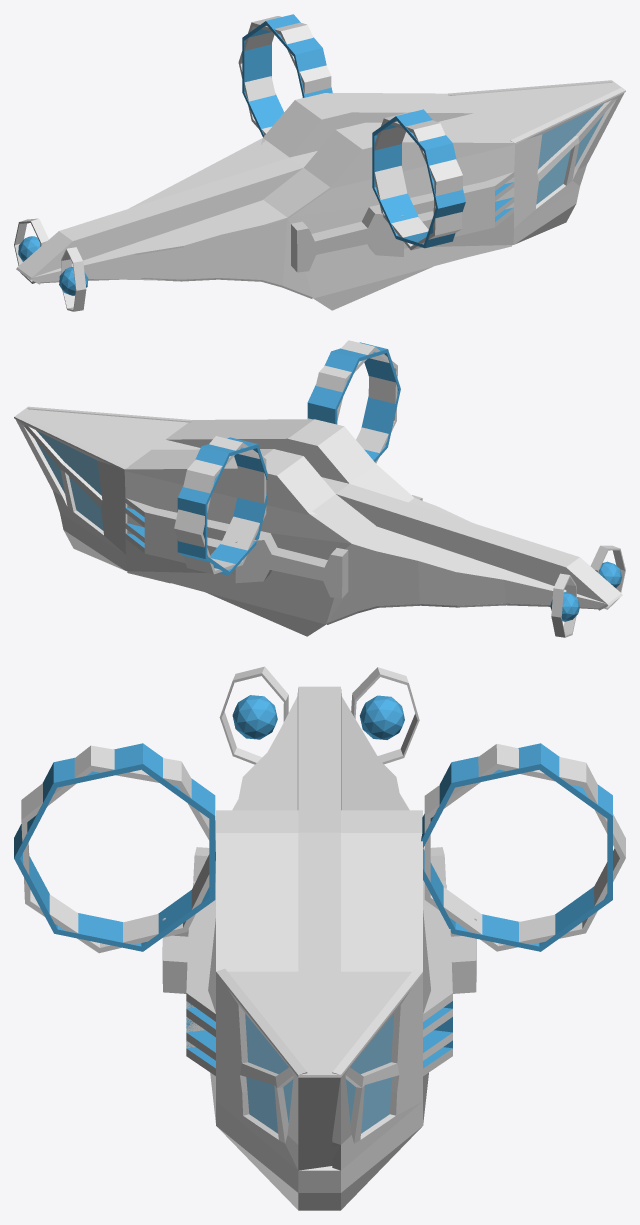
Rendered from naveConInterior.fbx.
3 views of the same model, one above another, from view 1: azimuth 30°, elevation 25°; view 2: azimuth 150°, elevation 25°; view 3: azimuth 270°, elevation 25° (orthographic). The views are drawn at different scales.
Parts seen in each view (by area): view 1: lado der, techo, Rotor, Rotor.004, Rotor.005, Rotor.001, suelo, Rotor.002, lado iz, Rotor.003, Puerta, Esfera geodésica.002; view 2: lado iz, techo, Rotor.001, Rotor.005, Rotor, Rotor.004, suelo, Rotor.003, Rotor.002, lado der, Puerta, Esfera geodésica.003; view 3: techo, lado der, lado iz, Rotor, Rotor.005, Rotor.001, Rotor.004, suelo, Esfera geodésica.003, Esfera geodésica.002, Rotor.002, Rotor.003.
Part boxes in pixels (x1,y1,x2,y2): lado der: (32, 88, 625, 298); techo: (17, 80, 625, 279); Rotor: (372, 109, 465, 248); Rotor.004: (374, 111, 462, 250); Rotor.005: (242, 14, 332, 137); Rotor.001: (238, 16, 331, 135); suelo: (313, 204, 575, 310); Rotor.002: (61, 247, 86, 311); lado iz: (16, 80, 612, 284); Rotor.003: (14, 218, 48, 283); Puerta: (40, 277, 312, 298); Esfera geodésica.002: (59, 267, 88, 295); lado iz: (14, 414, 622, 624); techo: (14, 407, 621, 605); Rotor.001: (174, 436, 266, 574); Rotor.005: (177, 437, 267, 575); Rotor: (307, 342, 400, 461); Rotor.004: (308, 340, 397, 463); suelo: (63, 530, 325, 636); Rotor.003: (551, 573, 576, 637); Rotor.002: (590, 545, 625, 609); lado der: (27, 406, 422, 500); Puerta: (327, 603, 598, 624); Esfera geodésica.003: (550, 592, 579, 621); techo: (216, 686, 422, 1077); lado der: (162, 847, 340, 1192); lado iz: (332, 847, 476, 1192); Rotor: (14, 743, 215, 951); Rotor.005: (421, 743, 612, 951); Rotor.001: (424, 744, 625, 951); Rotor.004: (21, 745, 215, 953); suelo: (216, 1126, 421, 1210); Esfera geodésica.003: (359, 695, 404, 739); Esfera geodésica.002: (232, 695, 277, 739); Rotor.002: (219, 666, 288, 764); Rotor.003: (351, 667, 419, 764).
Bounding box in the file's own units: 6404 × 2079 × 3725.
